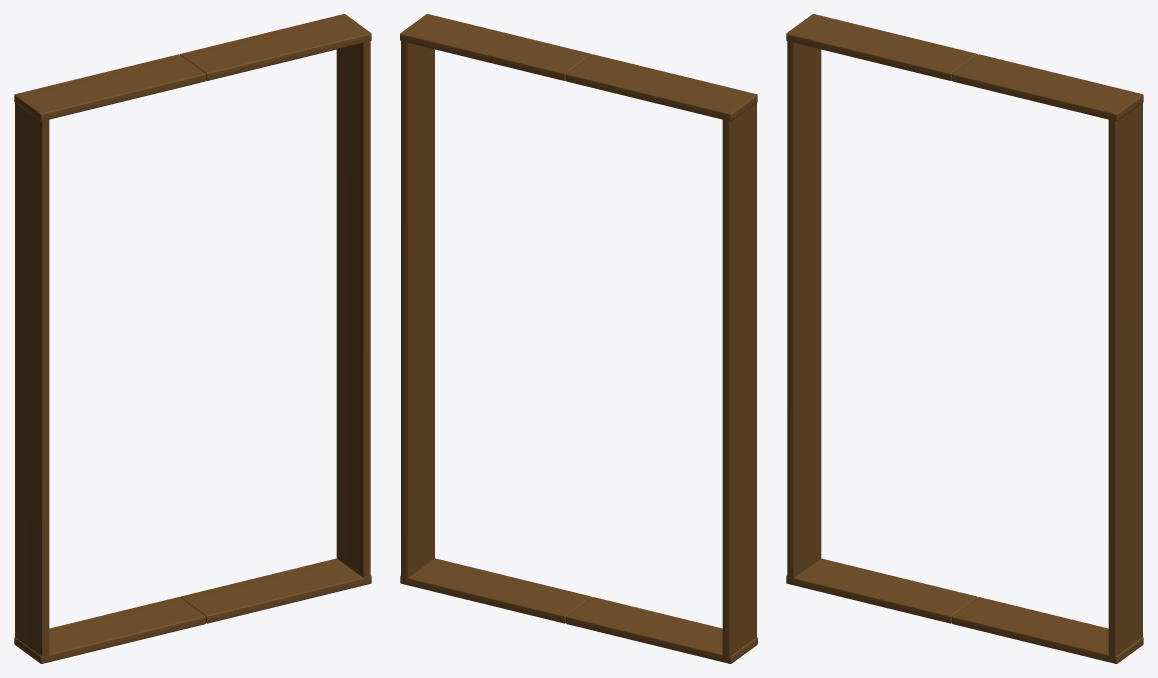
The model's file is SM_Building_WindowsFrame_01.fbx.
3 renders of one model, left to right at view 1: azimuth 30°, elevation 25°; view 2: azimuth 150°, elevation 25°; view 3: azimuth 330°, elevation 25°, orthographic.
Parts seen in each view (by area): view 1: Cube.002; view 2: Cube.002; view 3: Cube.002.
Part boxes in pixels (x1,y1,x2,y2): Cube.002: (14,14,371,663); Cube.002: (400,14,757,663); Cube.002: (786,14,1143,663).
Bounding box in the file's own units: 126 × 200 × 18.05.
